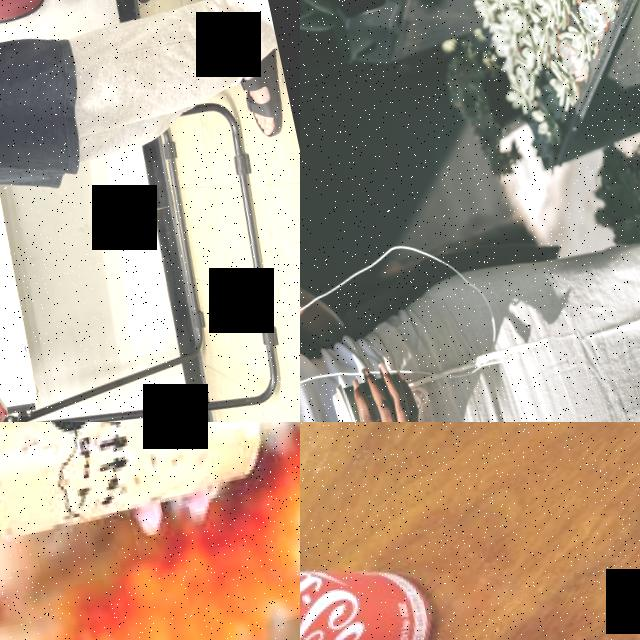can: (300, 523, 449, 640)
cup: (0, 422, 285, 603), (328, 368, 425, 422)
